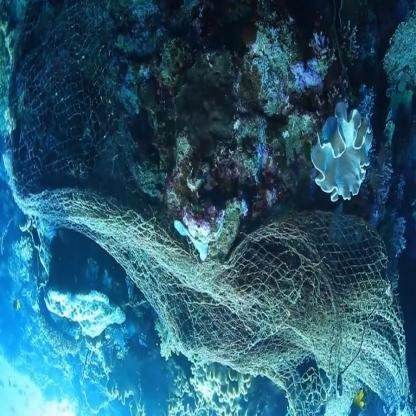net: (38, 85, 376, 388)
